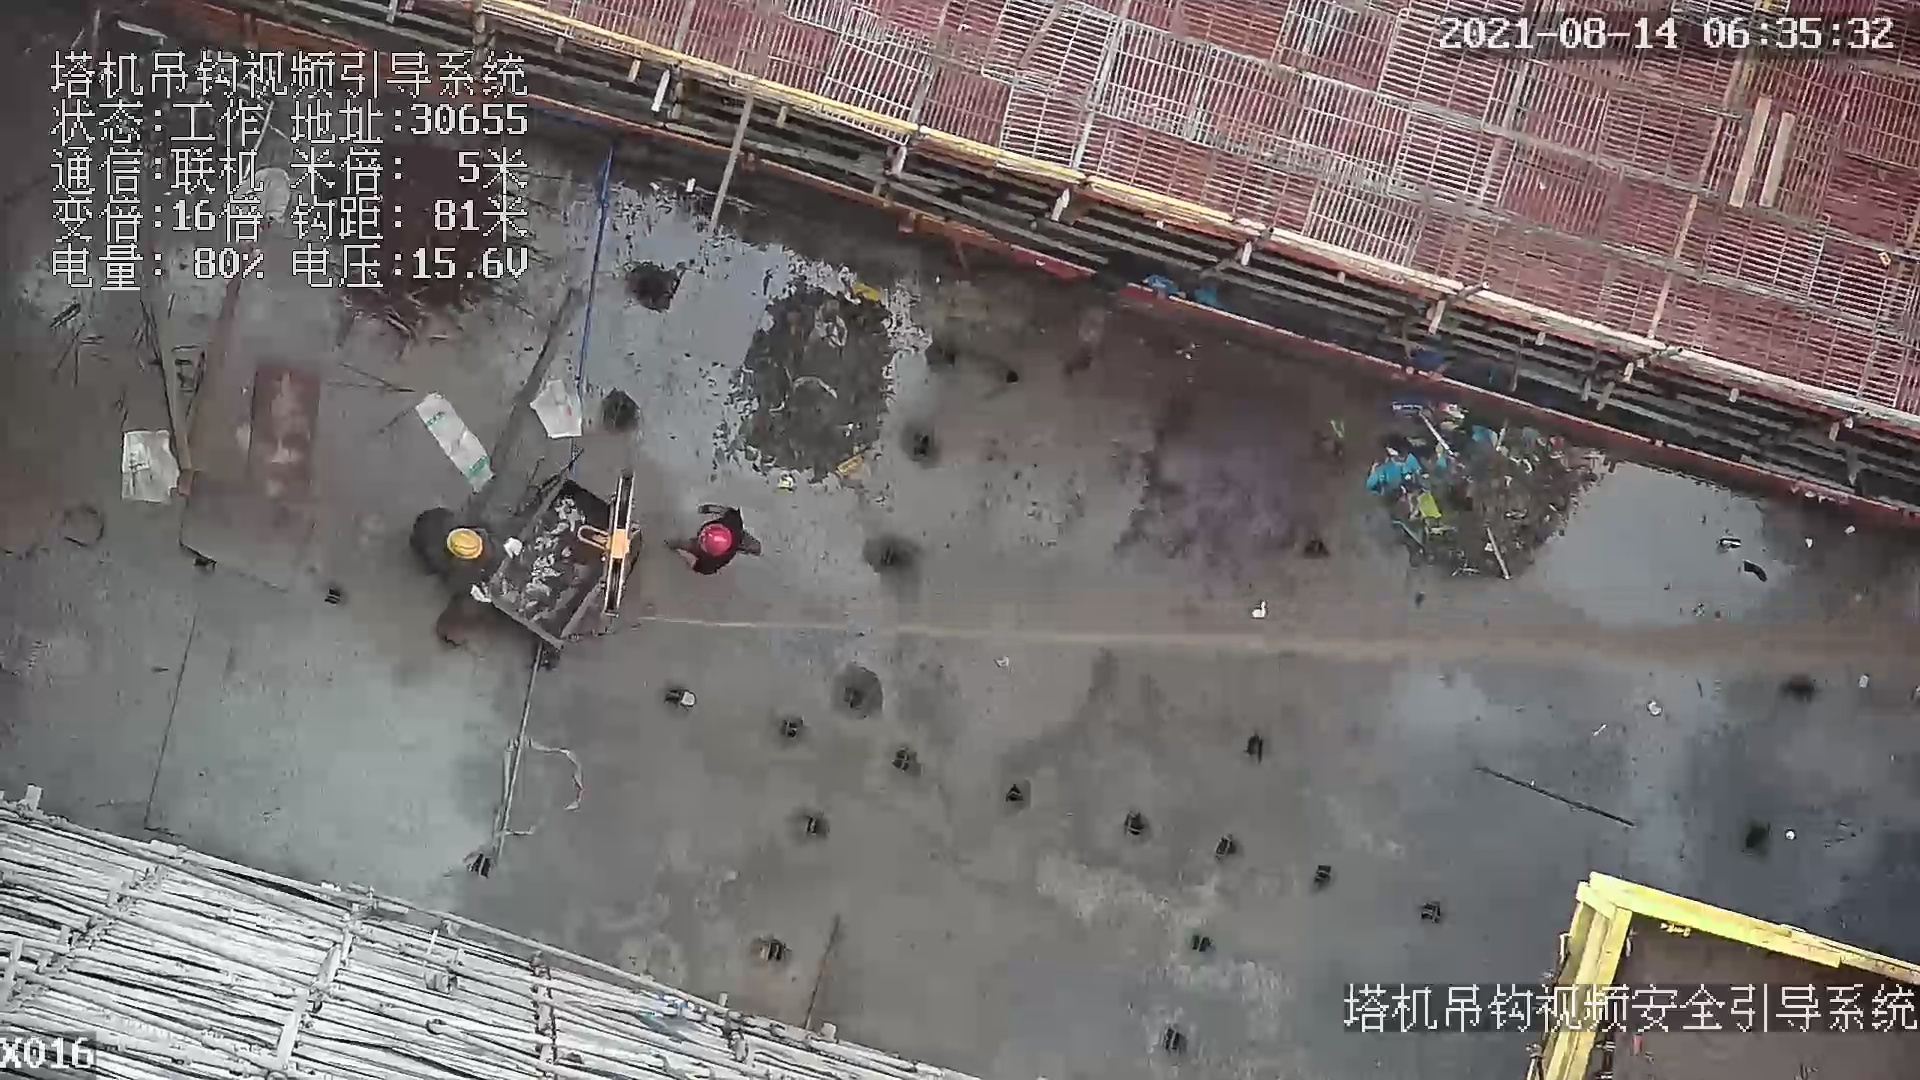helmet: (447, 528, 490, 562), (699, 526, 736, 565)
hook: (573, 465, 632, 626)
hopper: (458, 473, 642, 649)
person: (403, 496, 528, 609), (673, 500, 760, 587)
